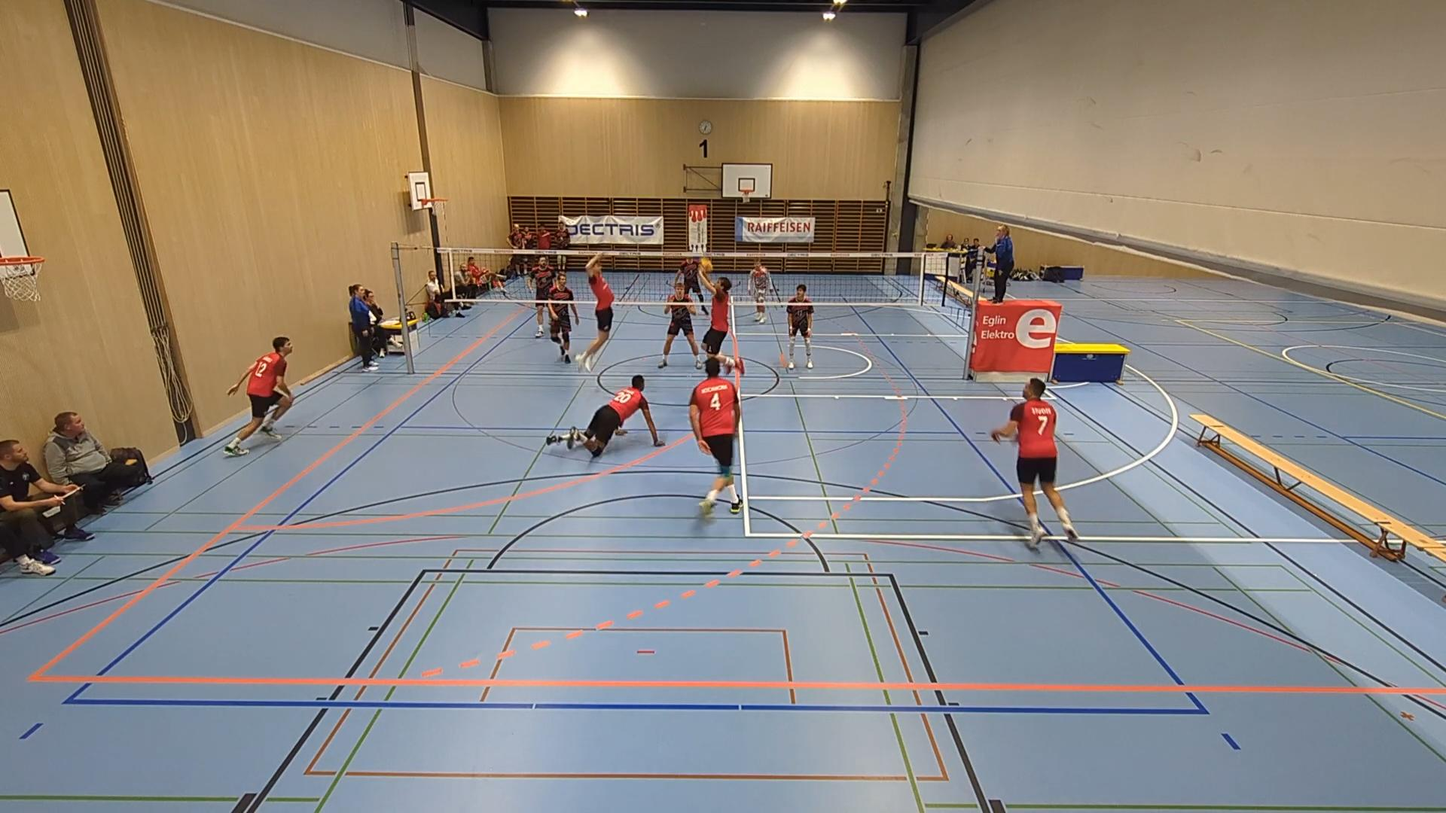Player: (990, 379, 1078, 549), (547, 376, 663, 457), (223, 336, 293, 456), (689, 358, 741, 515), (576, 254, 614, 370), (657, 281, 703, 368), (546, 273, 580, 363), (786, 285, 813, 369), (531, 257, 554, 337), (748, 260, 772, 322), (675, 257, 703, 300)
Set: (690, 264, 740, 370)
ball: (697, 258, 715, 272)
